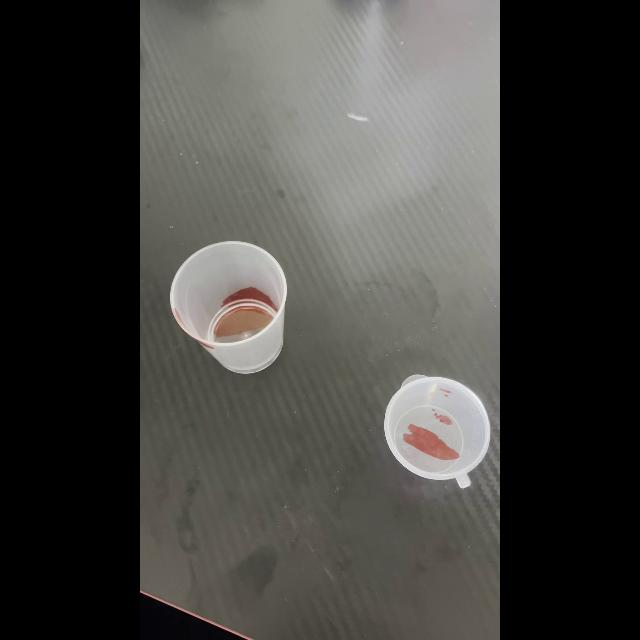dirty: (168, 242, 288, 372), (384, 376, 492, 486)
